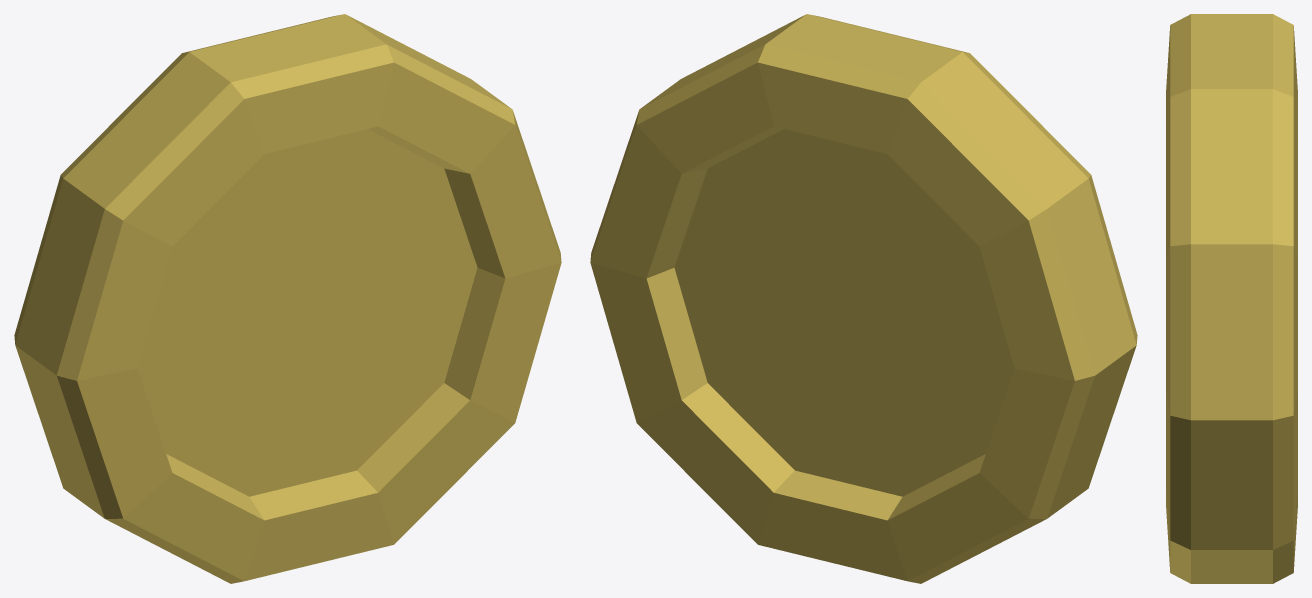
File: Coin_2.fbx
3 views of the same model, side by side, from view 1: azimuth 30°, elevation 25°; view 2: azimuth 150°, elevation 25°; view 3: azimuth 270°, elevation 25° (orthographic).
Visible parts, largest first — view 1: Coin_2; view 2: Coin_2; view 3: Coin_2.
Part boxes in pixels (x1,y1,x2,y2): Coin_2: [14, 14, 561, 583]; Coin_2: [590, 14, 1137, 583]; Coin_2: [1166, 14, 1297, 583].
Bounding box in the file's own units: 73.67 × 70.07 × 16.91.
